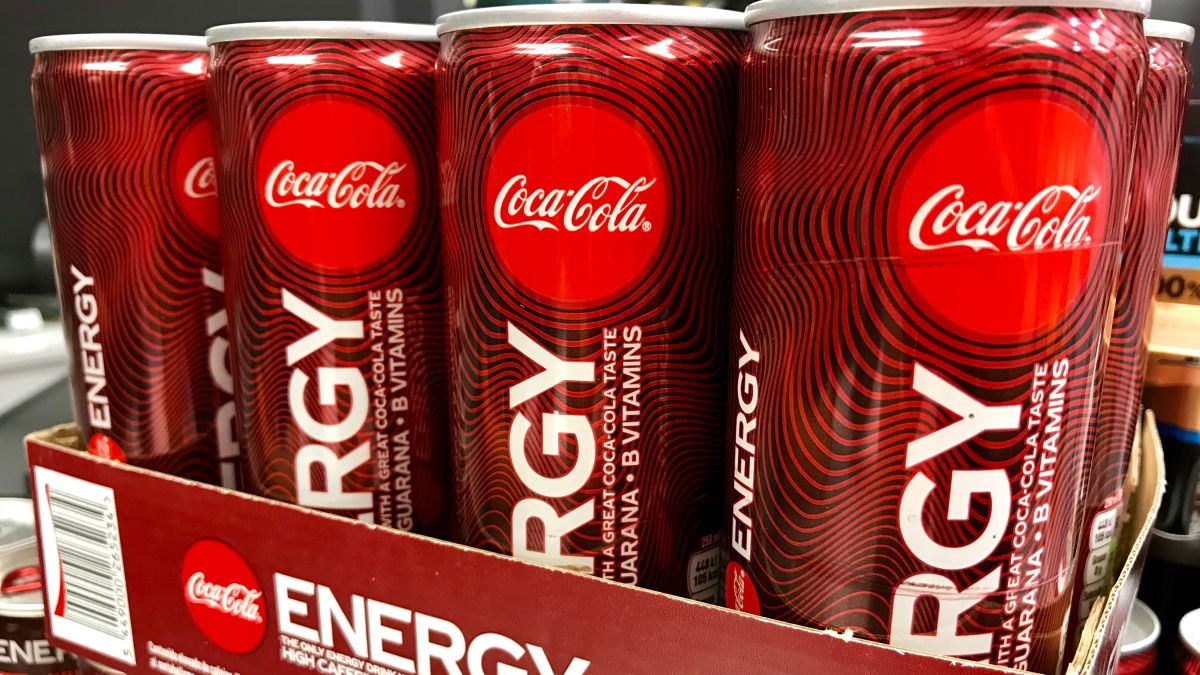Coca-Cola: (756, 9, 1090, 651), (408, 1, 738, 602), (204, 20, 428, 551), (29, 1, 226, 501)
